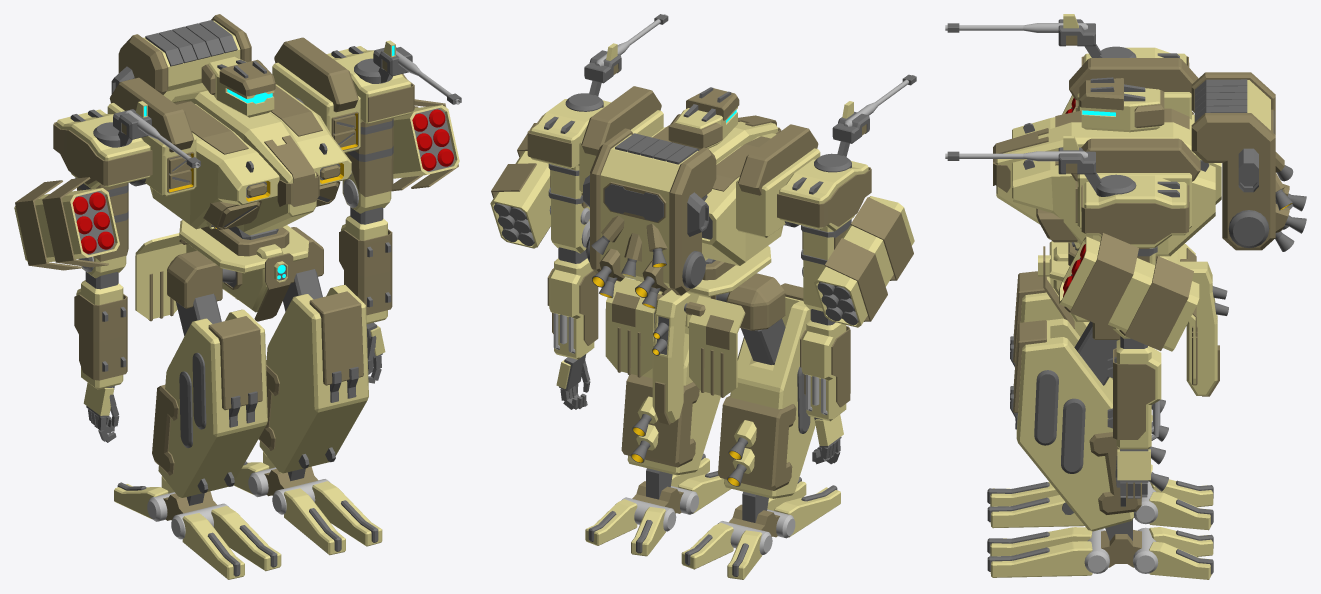
The model's file is mech 'Geode'.fbx.
3 views of the same model, side by side, from view 1: azimuth 30°, elevation 25°; view 2: azimuth 150°, elevation 25°; view 3: azimuth 270°, elevation 25° (orthographic). The views are drawn at different scales.
Parts seen in each view (by area): view 1: pasted__pCube124, pasted__pCube137, pCube63, pCube150 (×2), pasted__pCube128 (×2), pCube65 (×2), pCube62, pCube117 (×2), pCube155 (×2), pasted__pCube120, pCube144 (×2), polySurface8 (+40 smaller); view 2: pasted__pCube127 (×2), pasted__pCube137, pCube65 (×2), pCube88, pCube117 (×2), pCube90, polySurface8, pCube63, polySurface6, pCube146, pCube157, polySurface7 (+41 smaller); view 3: pasted__pCube124, pCube65 (×2), pCube89, pCube63, pCube117, pasted__pCube120, pasted__pCube122, pasted__pCube121, pasted__pCube144 (×2), pCube62, polySurface6, pCube150 (+34 smaller).
Part boxes in pixels (x1,y1,x2,y2): pasted__pCube124: (259,285,368,473); pasted__pCube137: (158,309,267,497); pCube63: (150,84,351,229); pCube150 (×2): (74,229,392,380); pasted__pCube128 (×2): (208,291,363,410); pCube65 (×2): (109,37,358,152); pCube62: (171,89,316,235); pCube117 (×2): (53,48,414,185); pCube155 (×2): (75,118,393,261); pasted__pCube120: (393,105,459,178); pCube144 (×2): (114,484,281,571); polySurface8: (135,233,186,319); pasted__pCube127 (×2): (621,374,796,490); pasted__pCube137: (724,296,815,498); pCube65 (×2): (581,86,818,195); pCube88: (600,134,698,288); pCube117 (×2): (527,115,871,227); pCube90: (669,147,716,295); polySurface8: (689,295,745,396); pCube63: (651,127,783,265); polySurface6: (652,290,690,422); pCube146: (549,247,594,359); pCube157: (801,309,846,421); polySurface7: (605,277,662,376); pasted__pCube124: (1016,318,1133,531); pCube65 (×2): (1069,58,1200,181); pCube89: (1191,113,1275,250); pCube63: (1012,117,1215,256); pCube117: (1081,185,1189,244); pasted__pCube120: (1059,236,1199,351); pasted__pCube122: (1064,233,1138,327); pasted__pCube121: (1119,256,1193,350); pasted__pCube144 (×2): (990,527,1213,577); pCube62: (996,122,1221,244); polySurface6: (1179,261,1217,395); pCube150: (1113,348,1155,439).
Bounding box in the file's own units: 22.18 × 25.33 × 17.87.
